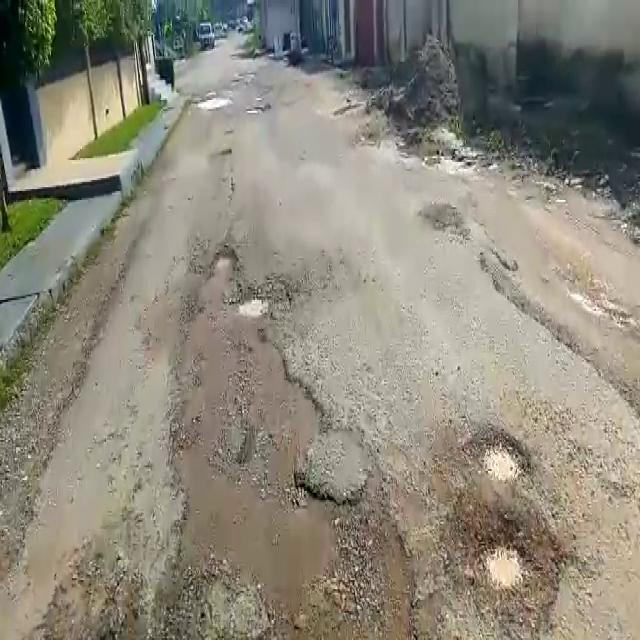Pothole: (450, 487, 564, 621), (462, 427, 532, 491), (235, 296, 273, 320), (212, 247, 241, 276)
